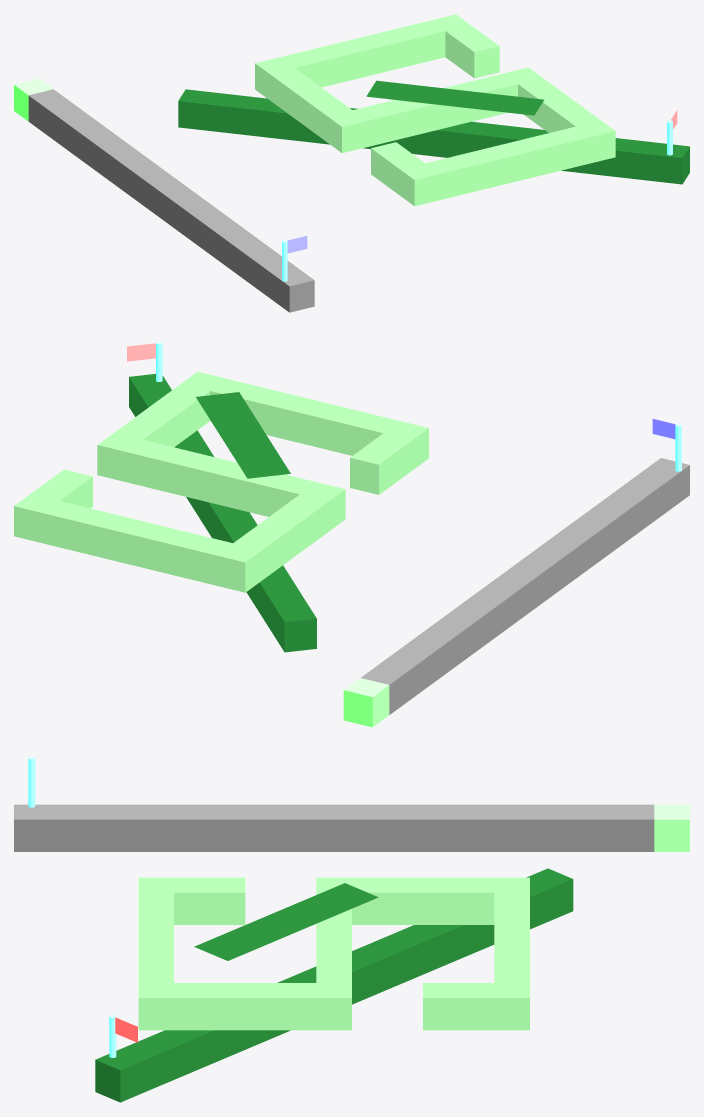
File: level3.gltf
The picture shows the model from 3 angles, top to bottom: view 1: azimuth 30°, elevation 25°; view 2: azimuth 150°, elevation 25°; view 3: azimuth 270°, elevation 25°; orthographic projection. The views are drawn at different scales.
Parts seen in each view (by area): view 1: Box_one, Box_big, Boxh1, Boxh3, Boxs2, Boxh2, Boxs1, Plane, Boxss2, Boxss1, Box_move; view 2: Box_one, Boxh3, Boxh2, Boxh1, Box_big, Boxs2, Boxs1, Plane, Boxss1, Box_move, Boxss2; view 3: Box_one, Box_big, Boxs1, Boxs2, Boxh3, Plane, Boxh1, Boxss1, Boxss2, Boxh2, Box_move.
Part boxes in pixels (<box>): Box_one: <box>28,89,314,312</box>; Box_big: <box>178,89,689,184</box>; Boxh1: <box>400,126,590,206</box>; Boxh3: <box>280,14,469,87</box>; Boxs2: <box>255,57,367,153</box>; Boxh2: <box>353,73,517,146</box>; Boxs1: <box>503,67,615,163</box>; Plane: <box>366,80,543,115</box>; Boxss2: <box>445,25,499,78</box>; Boxss1: <box>371,142,424,195</box>; Box_move: <box>14,78,53,121</box>; Box_one: <box>361,458,689,714</box>; Boxh3: <box>14,494,232,585</box>; Boxh2: <box>126,440,316,516</box>; Boxh1: <box>210,378,428,470</box>; Box_big: <box>129,374,316,652</box>; Boxs2: <box>216,482,345,592</box>; Boxs1: <box>97,371,225,481</box>; Plane: <box>196,392,290,478</box>; Boxss1: <box>350,433,412,494</box>; Box_move: <box>343,678,389,727</box>; Boxss2: <box>31,469,92,508</box>; Box_one: <box>14,804,654,851</box>; Box_big: <box>95,868,573,1102</box>; Boxs1: <box>138,983,351,1030</box>; Boxs2: <box>316,877,529,924</box>; Boxh3: <box>494,892,529,1030</box>; Plane: <box>194,883,378,960</box>; Boxh1: <box>138,877,173,982</box>; Boxss1: <box>174,877,245,924</box>; Boxss2: <box>423,983,494,1030</box>; Boxh2: <box>316,892,351,982</box>; Box_move: <box>654,804,689,851</box>.
Bounding box in the file's own units: 17.67 × 2.5 × 19.
